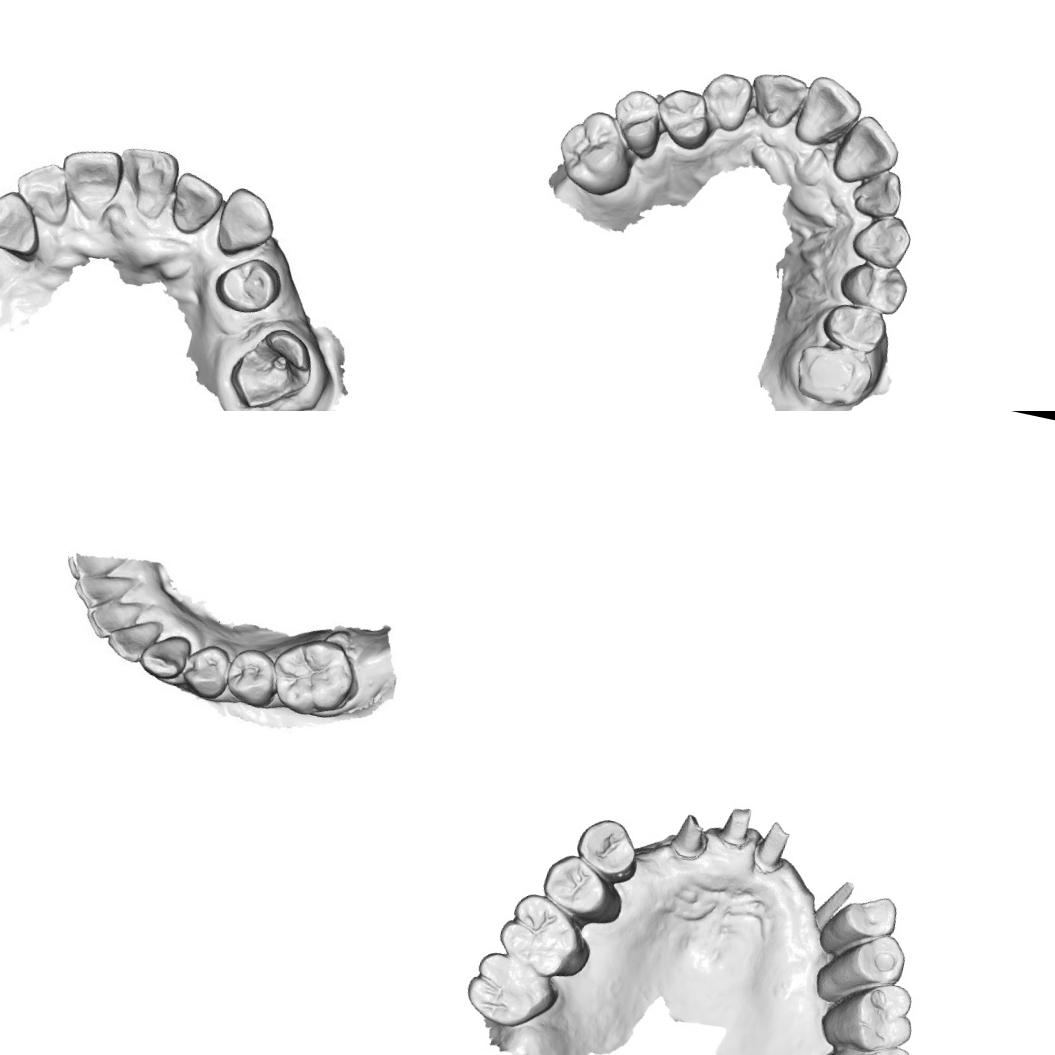canine: (207, 182, 284, 266), (0, 180, 52, 265), (848, 209, 915, 273), (695, 68, 756, 136), (138, 628, 193, 685)
crown: (810, 876, 856, 938), (750, 817, 792, 877), (668, 810, 714, 862), (715, 802, 756, 851)
incisor: (828, 110, 906, 192), (52, 136, 128, 218), (792, 71, 866, 154), (3, 154, 78, 228), (114, 139, 180, 215), (161, 167, 229, 240), (744, 67, 809, 134), (848, 164, 907, 222), (109, 613, 163, 663), (87, 594, 139, 639), (75, 566, 127, 608)
molar: (492, 887, 600, 985), (460, 946, 564, 1038), (815, 970, 920, 1055), (551, 104, 641, 202), (267, 632, 361, 722), (788, 337, 877, 411), (812, 1031, 919, 1055)
premolar: (811, 922, 910, 1016), (536, 850, 631, 931), (815, 885, 901, 966), (207, 247, 289, 324), (569, 811, 647, 889), (604, 84, 668, 162), (649, 83, 718, 154), (836, 253, 913, 315), (817, 297, 891, 358), (178, 640, 236, 702), (225, 651, 279, 710)
